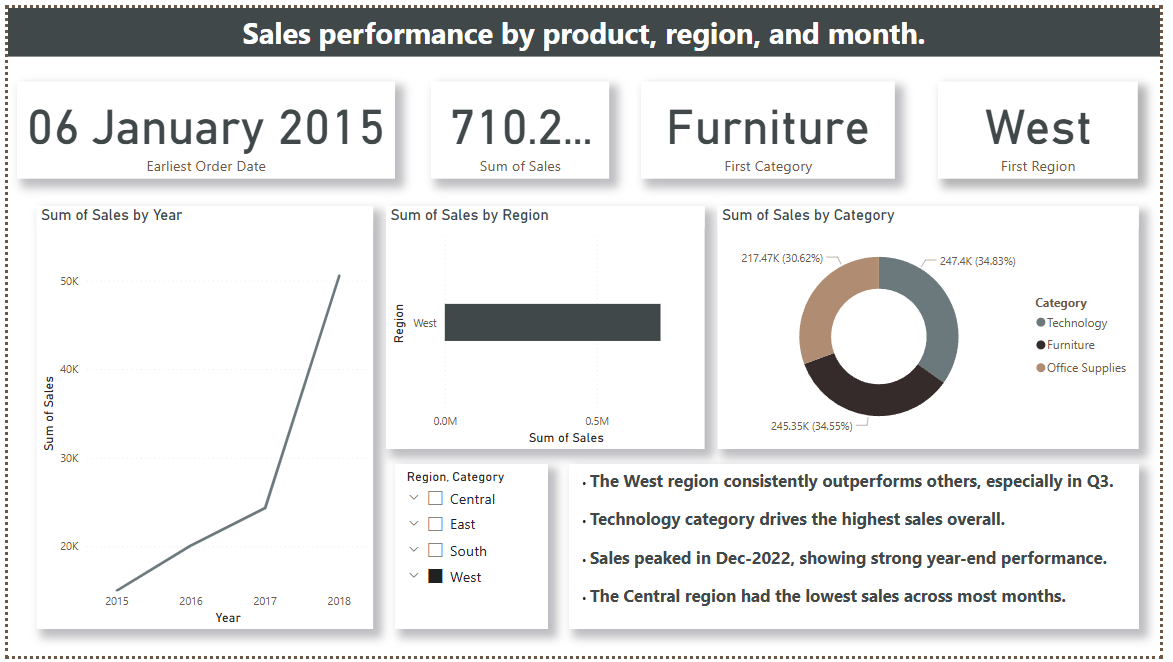

The dashboard page shown, as its layout file describes it:
{"tool":"powerbi","page":{"name":"Page 1","canvas":[1280,720],"ordinal":0},"visuals":[{"type":"lineChart","fields":{"Category":["train.Order Date.Variation.Date Hierarchy.Year","train.Order Date.Variation.Date Hierarchy.Quarter","train.Order Date.Variation.Date Hierarchy.Month","train.Order Date.Variation.Date Hierarchy.Day"],"Y":["Sum(train.Sales)"]},"box":[32,220,374,470],"z":0},{"type":"textbox","box":[0,0,1280,54],"z":1000},{"type":"card","fields":{"Values":["Sum(train.Sales)"]},"box":[470,82,198,108],"z":2000},{"type":"card","fields":{"Values":["Min(train.Order Date)"]},"box":[10,82,420,108],"z":3000},{"type":"card","fields":{"Values":["Min(train.Category)"]},"box":[704,82,282,108],"z":4000},{"type":"card","fields":{"Values":["Min(train.Region)"]},"box":[1034,82,222,108],"z":5000},{"type":"barChart","fields":{"Category":["train.Region"],"Y":["Sum(train.Sales)"]},"box":[420,220,354,270],"z":5001},{"type":"donutChart","fields":{"Category":["train.Category"],"Y":["Sum(train.Sales)"]},"box":[788,220,468,270],"z":5002},{"type":"slicer","fields":{"Values":["train.Region","train.Category"]},"box":[430,506.7,170,183.3],"z":5003},{"type":"textbox","box":[623.3,506.7,633.3,183.3],"z":5005}]}

Visuals, with their boxes in screenshot pixels (x1, y1, x2, y2), scaled from the page's 1280x720 canvas onto the 1173x662 screenshot:
lineChart - train.Order Date.Variation.Date Hierarchy.Year x train.Order Date.Variation.Date Hierarchy.Quarter: BBox(29, 202, 372, 634)
textbox: BBox(0, 0, 1172, 50)
card - Sum(train.Sales): BBox(431, 75, 612, 175)
card - Min(train.Order Date): BBox(9, 75, 394, 175)
card - Min(train.Category): BBox(645, 75, 904, 175)
card - Min(train.Region): BBox(948, 75, 1151, 175)
barChart - train.Region x Sum(train.Sales): BBox(385, 202, 709, 451)
donutChart - train.Category x Sum(train.Sales): BBox(722, 202, 1151, 451)
slicer - train.Region x train.Category: BBox(394, 466, 550, 634)
textbox: BBox(571, 466, 1152, 634)
